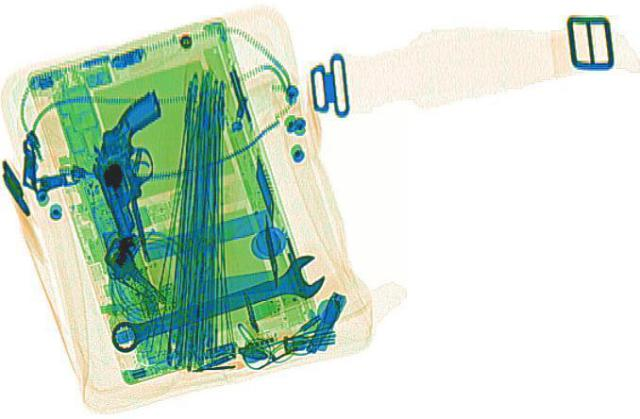Gun: (70, 89, 202, 234)
Wrench: (91, 250, 339, 356)
